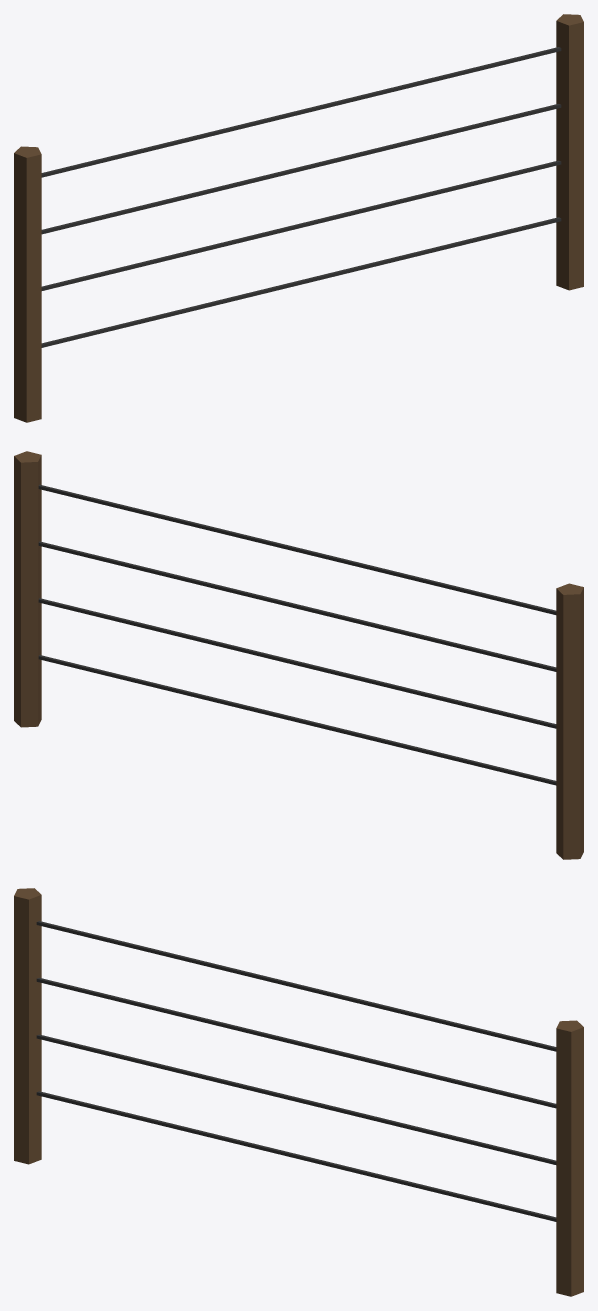
The model's file is cerca_arame.glb.
The picture shows the model from 3 angles, top to bottom: view 1: azimuth 30°, elevation 25°; view 2: azimuth 150°, elevation 25°; view 3: azimuth 330°, elevation 25°; orthographic projection.
Visible parts, largest first — view 1: cerca_arame; view 2: cerca_arame; view 3: cerca_arame.
Part boxes in pixels (x1,y1,x2,y2): cerca_arame: (14,14,583,422); cerca_arame: (14,451,583,859); cerca_arame: (14,888,583,1296).
Bounding box in the file's own units: 3.13 × 1.4 × 0.1266.
